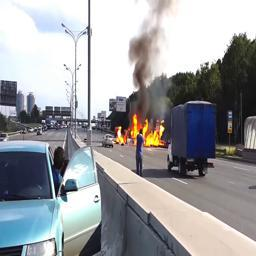fire: (117, 114, 166, 147)
